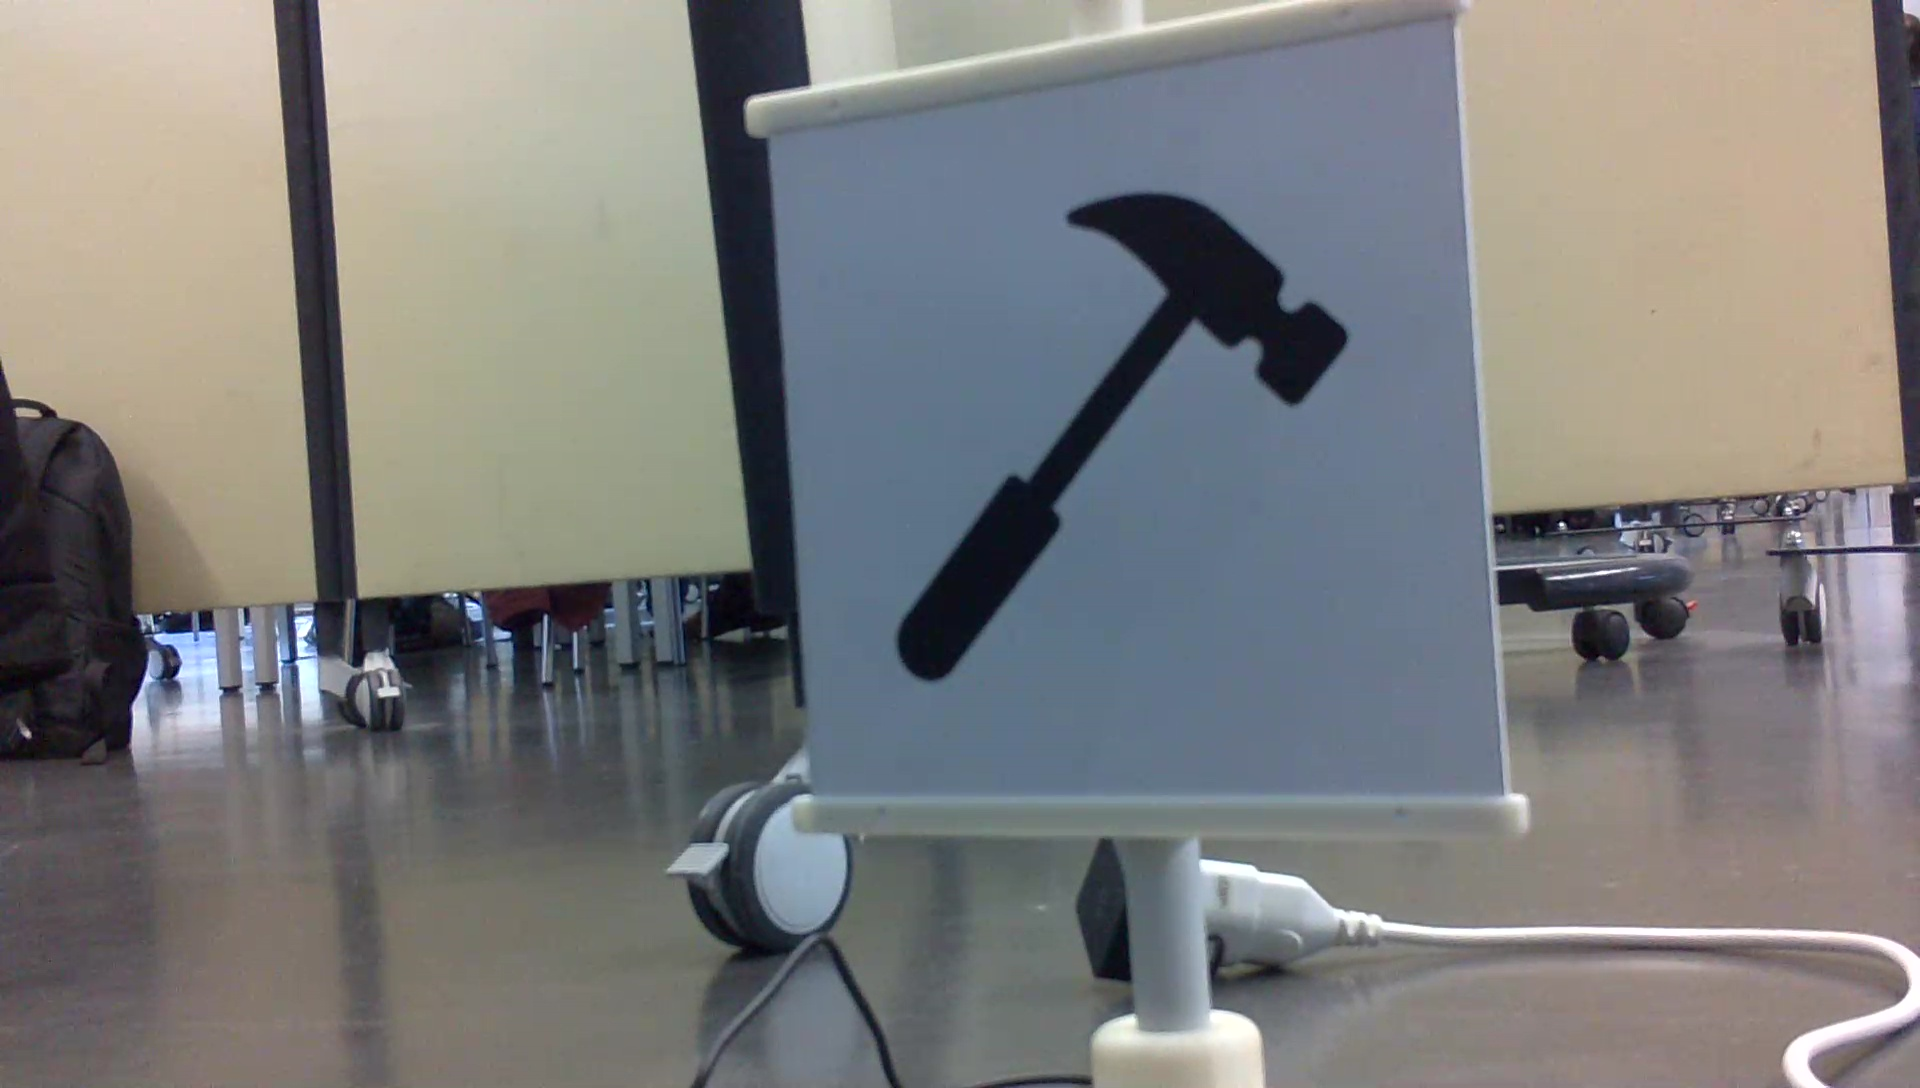hammer: (882, 185, 1357, 700)
